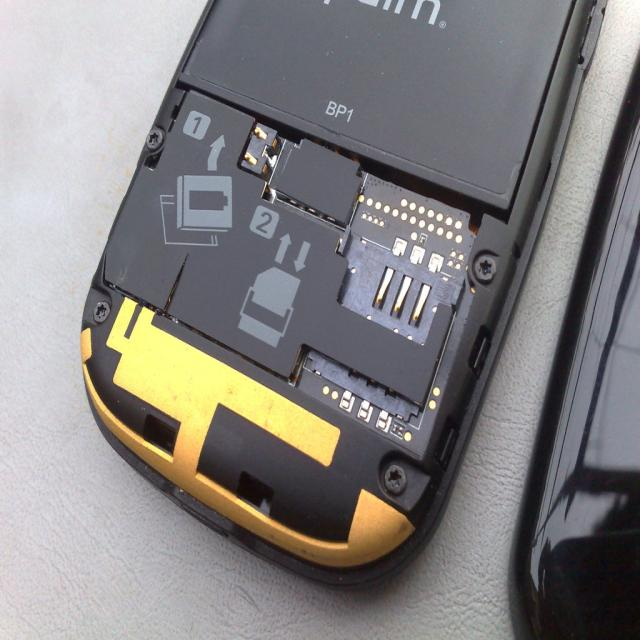Mobile-phone: (52, 7, 550, 614)
